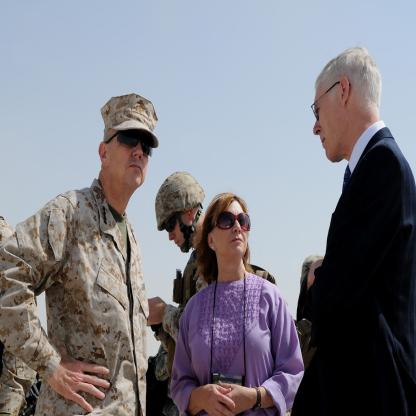Helmet: (152, 173, 206, 257)
